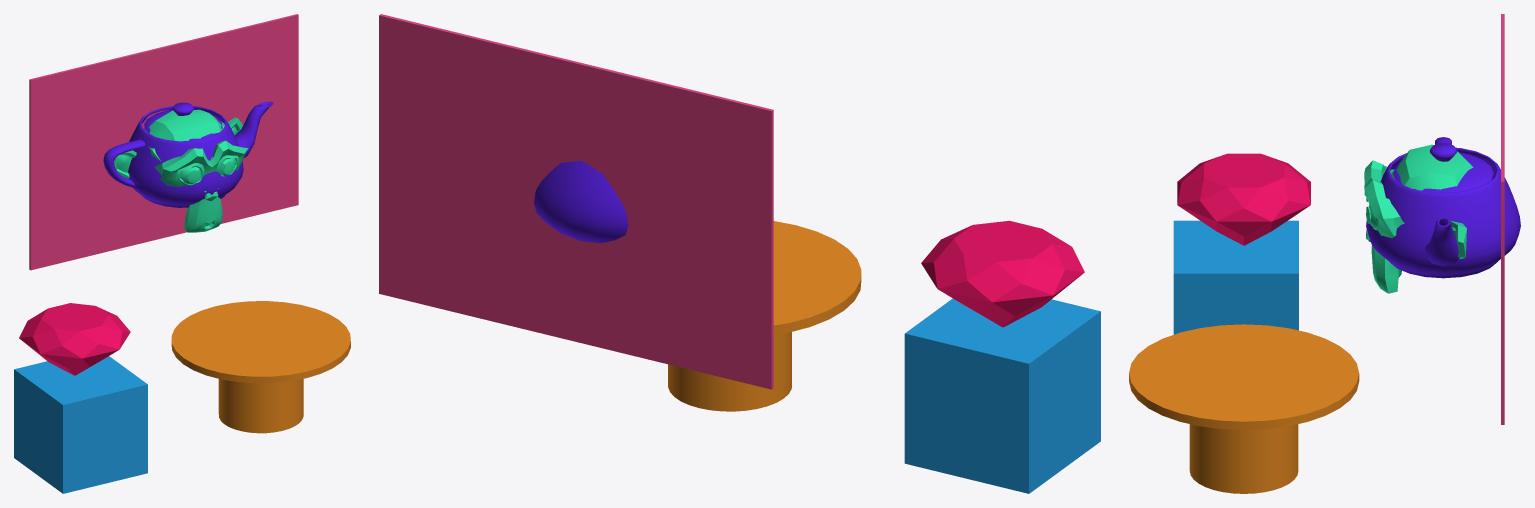
The model's file is SnapAndSwap_Scaled.fbx.
3 renders of one model, left to right at view 1: azimuth 30°, elevation 25°; view 2: azimuth 150°, elevation 25°; view 3: azimuth 270°, elevation 25°, orthographic. The views are drawn at different scales.
Visible parts, largest first — view 1: Station, SnapBase, Station2, Teapot, Suzanne, Gem; view 2: Station, Station2, SnapBase, Gem, Teapot; view 3: SnapBase, Teapot, Station2, Gem, Suzanne, Station.
Boxes of the visible parts, box(x1,y1,x2,y2) form: Station: box(29, 14, 298, 270); SnapBase: box(171, 301, 350, 433); Station2: box(14, 356, 147, 493); Teapot: box(103, 101, 273, 207); Suzanne: box(111, 109, 248, 232); Gem: box(19, 303, 130, 375); Station: box(379, 14, 773, 389); Station2: box(904, 298, 1100, 493); SnapBase: box(668, 221, 861, 411); Gem: box(921, 220, 1084, 327); Teapot: box(534, 160, 628, 243); SnapBase: box(1129, 324, 1359, 493); Teapot: box(1366, 137, 1520, 278); Station2: box(1173, 220, 1298, 334); Gem: box(1177, 153, 1310, 245); Suzanne: box(1364, 144, 1473, 293); Station: box(1501, 14, 1504, 424).
Size of the model in its own units: 583 by 448 by 418.
